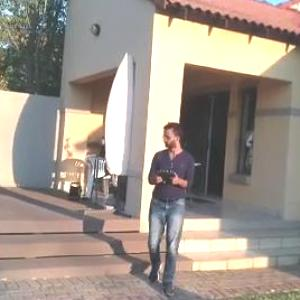follow: (143, 121, 197, 299)
